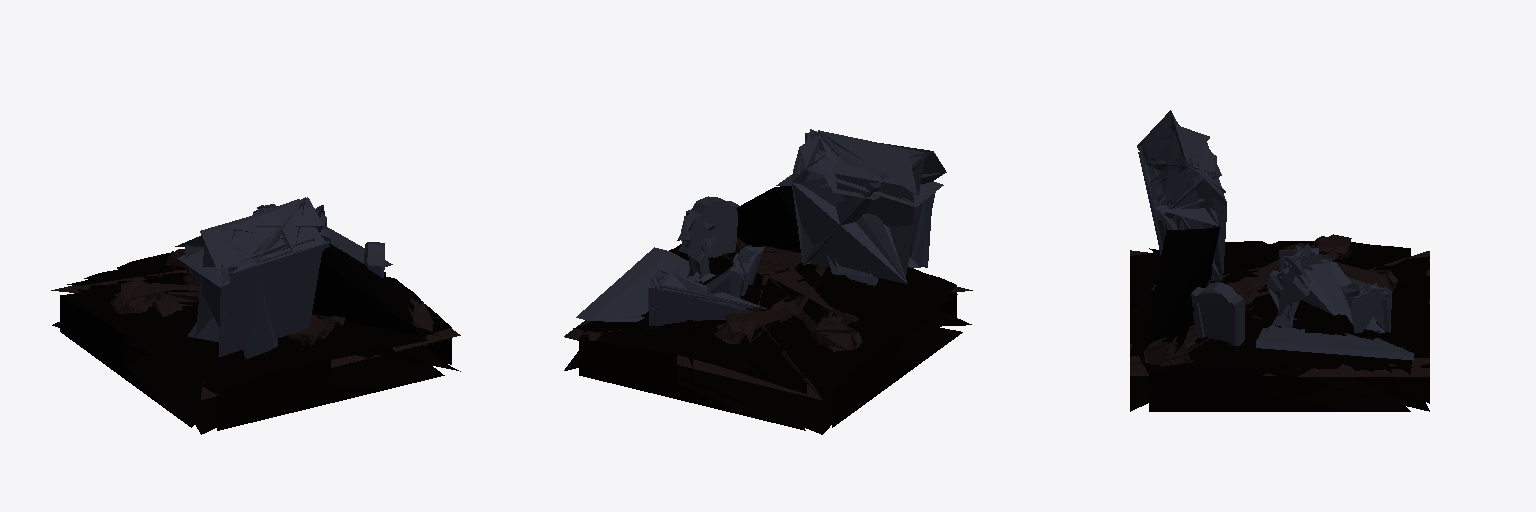
Rendered from new-graveyard.obj.
3 views of the same model, side by side, from view 1: azimuth 30°, elevation 25°; view 2: azimuth 150°, elevation 25°; view 3: azimuth 270°, elevation 25° (orthographic).
Visible parts, largest first — view 1: Ground, Buidling, Rock.010, Rock.011, Rock.008, Rock.009, Gravestone.001, Stone; view 2: Ground, Buidling, Gravestone, Stone, Gravestone.001, Gravestone.002, Rock.011, Gravestone.003, Rock, Rock.009, Rock.010; view 3: Ground, Buidling, Stone, Gravestone.001, Gravestone.003, Gravestone, Gravestone.002, Rock.011, Rock.008, Rock, Rock.009, Rock.010.
Boxes of the visible parts, <box> form: Ground: <box>52,249,460,434</box>; Buidling: <box>175,197,425,358</box>; Rock.010: <box>110,280,164,313</box>; Rock.011: <box>51,269,460,399</box>; Rock.008: <box>151,283,433,345</box>; Rock.009: <box>152,291,199,316</box>; Gravestone.001: <box>364,242,384,277</box>; Stone: <box>326,226,392,266</box>; Ground: <box>564,244,971,434</box>; Buidling: <box>736,129,946,285</box>; Gravestone: <box>648,271,766,328</box>; Stone: <box>576,247,700,321</box>; Gravestone.001: <box>686,196,738,257</box>; Gravestone.002: <box>677,212,716,282</box>; Rock.011: <box>564,286,972,399</box>; Gravestone.003: <box>671,245,764,323</box>; Rock: <box>714,306,802,343</box>; Rock.009: <box>757,264,858,325</box>; Rock.010: <box>811,317,862,351</box>; Ground: <box>1130,241,1429,411</box>; Buidling: <box>1137,110,1226,357</box>; Stone: <box>1256,325,1413,360</box>; Gravestone.001: <box>1191,282,1244,345</box>; Gravestone.003: <box>1279,244,1384,332</box>; Gravestone: <box>1340,276,1392,332</box>; Gravestone.002: <box>1267,257,1310,328</box>; Rock.011: <box>1130,250,1429,376</box>; Rock.008: <box>1144,248,1339,366</box>; Rock: <box>1332,261,1397,291</box>; Rock.009: <box>1236,243,1319,304</box>; Rock.010: <box>1310,234,1351,259</box>.
Bounding box in the file's own units: 8 × 5.43 × 8.